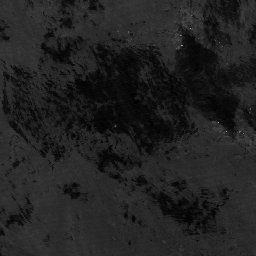Target: (113, 124, 117, 128)
